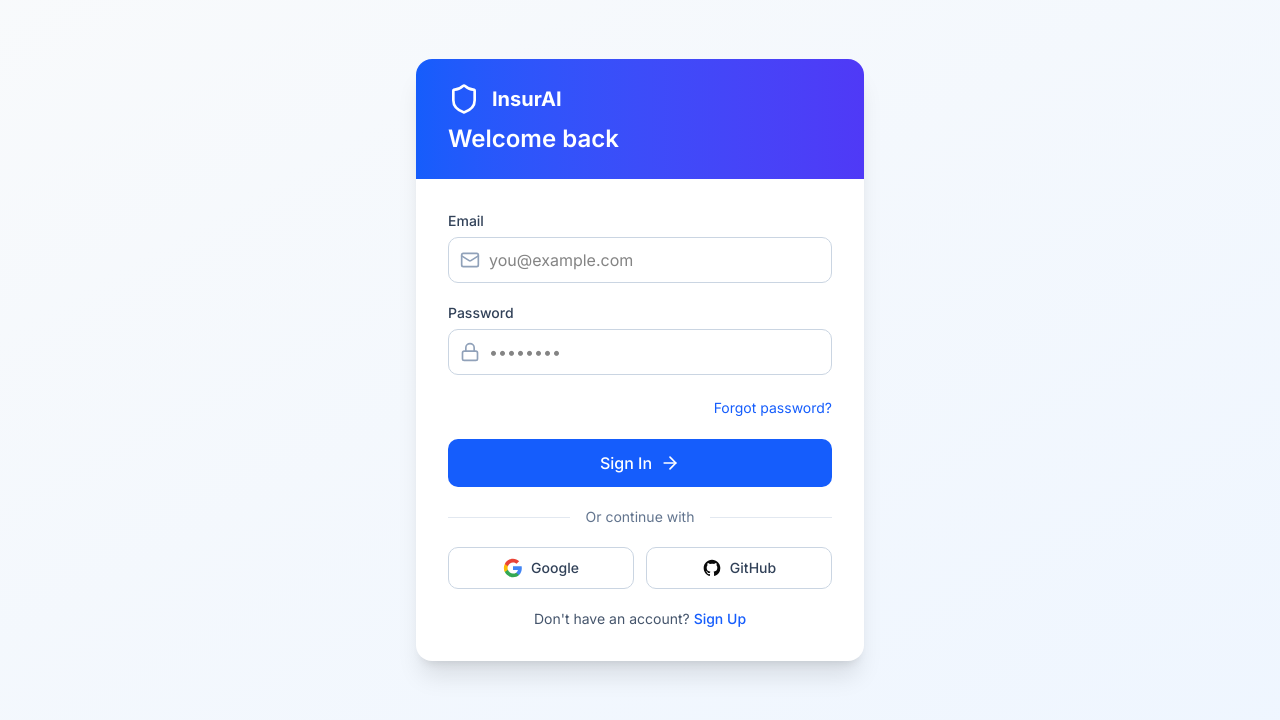
it: AuthPage › form validation › shows invalid email error
The image size is (1280, 720).
Type "invalid" into the field with placeholder "you@example.com" at point(640, 260), box x1=448 y1=237 x2=832 y2=283
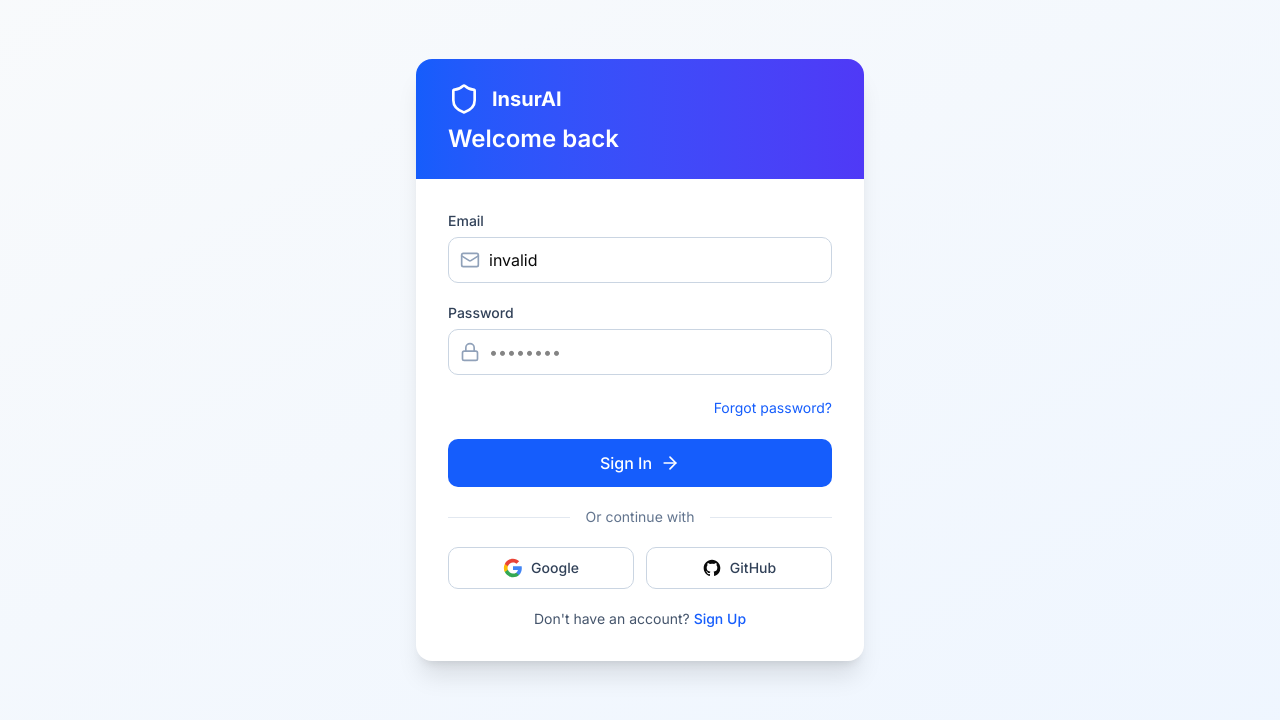
Type "123456" into the password field with placeholder "••••••••" at point(640, 352), box x1=448 y1=329 x2=832 y2=375
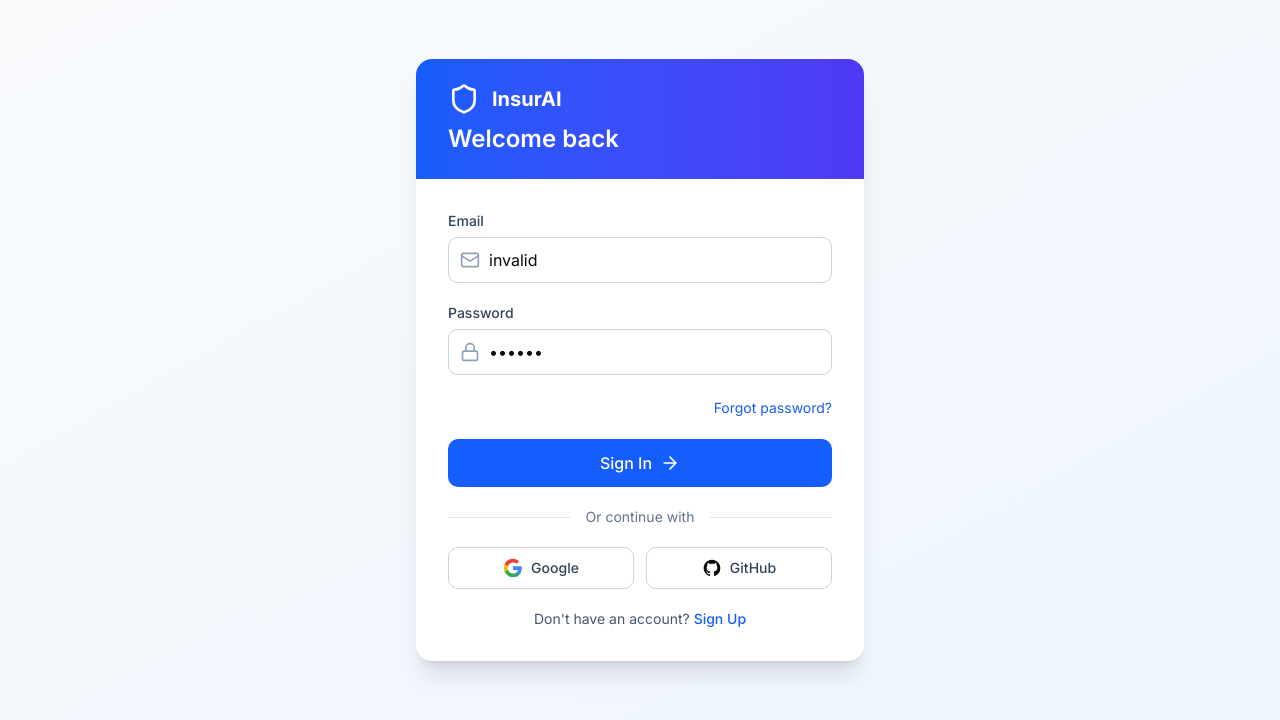
Submit the form from the button "Sign In", box x1=448 y1=439 x2=832 y2=487
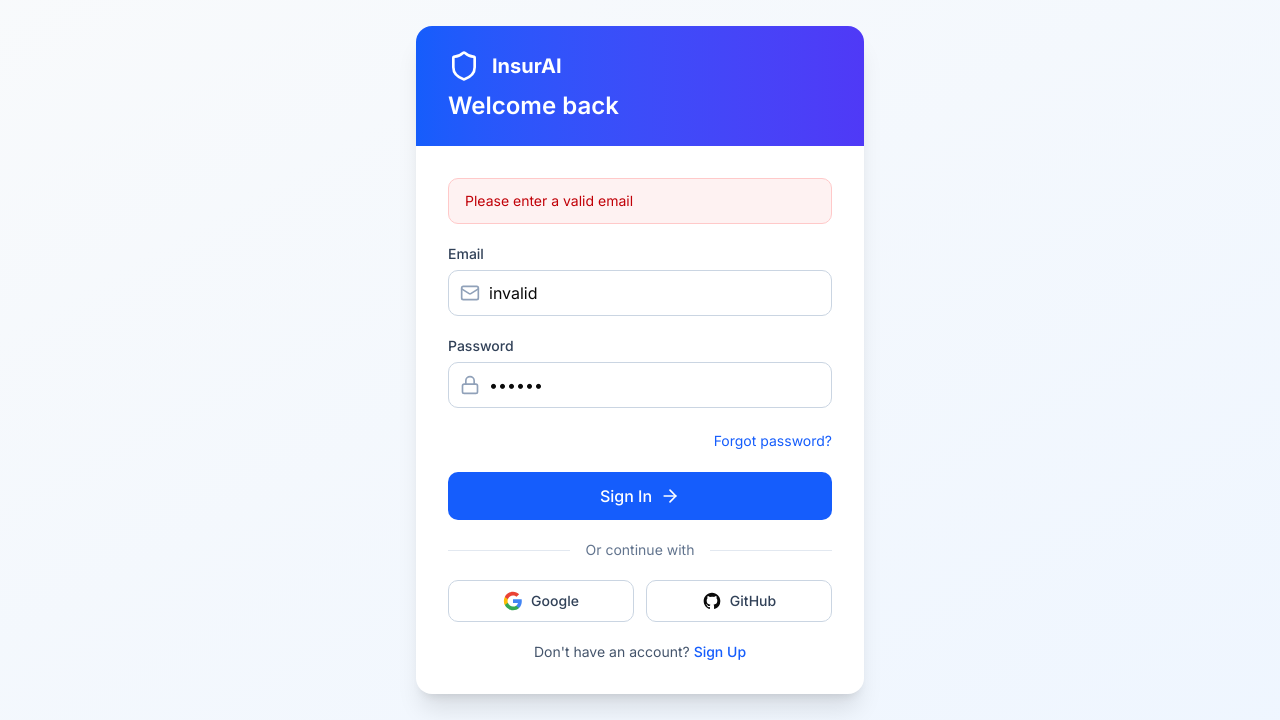
Now the text "Please enter a valid email" is shown, box x1=448 y1=178 x2=832 y2=224
